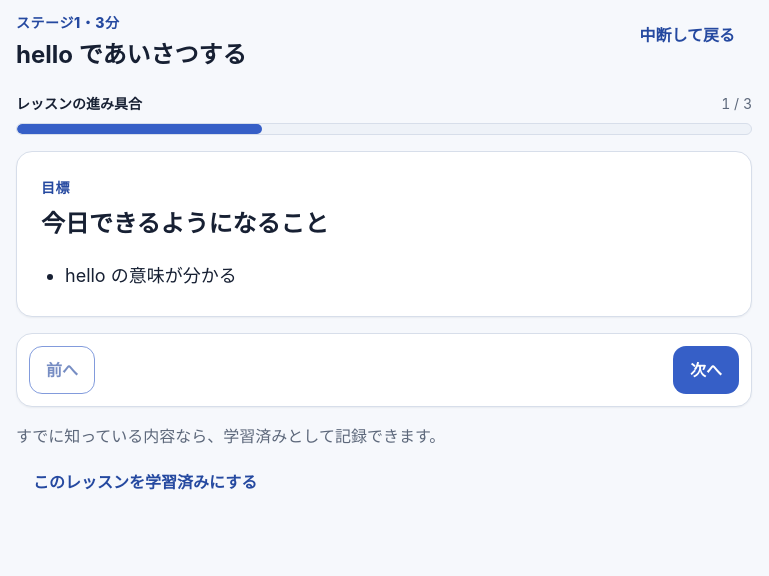
レッスンレンダラー › 保存失敗時は移動せず日本語エラーを表示する
The width and height of the screenshot is (769, 576).
Expected: the heading "今日できるようになること" is shown, [41,209,328,238]
Click the button "次へ".
click(706, 370)  # box [673,346,739,394]
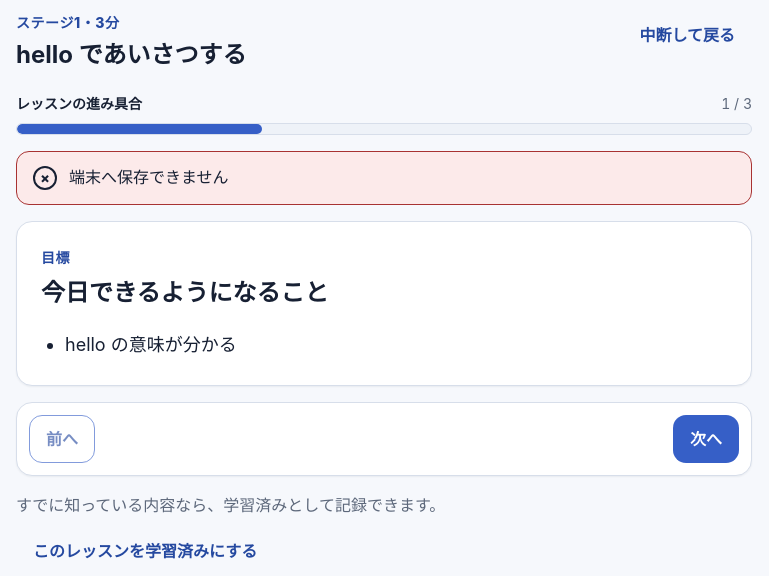
Expected: the heading "今日できるようになること" is shown, [41,278,328,307]
Result: the text "端末へ保存できません" is shown at [69,167,228,187]
